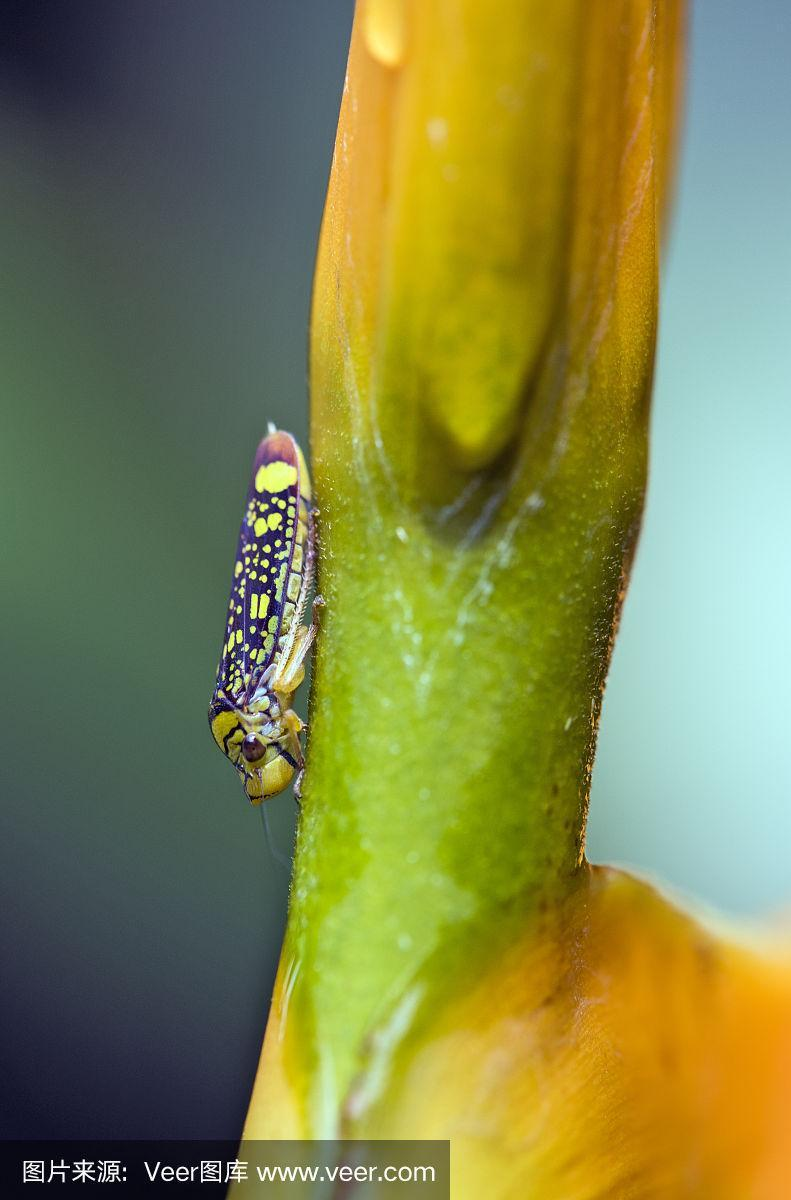Cicadellidae: (206, 423, 321, 810)
